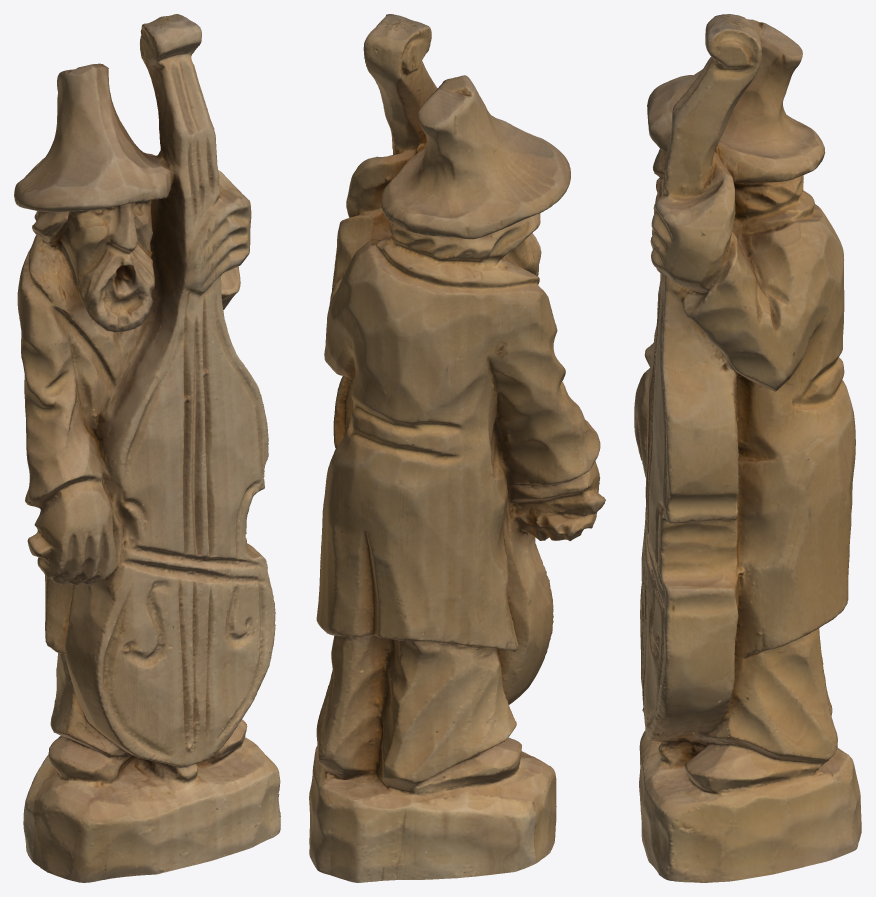
Rendered from MPL_W_E_864_lowpoly.glb.
3 views of the same model, side by side, from view 1: azimuth 30°, elevation 25°; view 2: azimuth 150°, elevation 25°; view 3: azimuth 270°, elevation 25° (orthographic).
Visible parts, largest first — view 1: MPL_W_E_864_lowpoly; view 2: MPL_W_E_864_lowpoly; view 3: MPL_W_E_864_lowpoly.
Boxes of the visible parts, x1,y1,x2,y2 form: MPL_W_E_864_lowpoly: (14, 14, 280, 882); MPL_W_E_864_lowpoly: (309, 14, 605, 882); MPL_W_E_864_lowpoly: (634, 14, 861, 882).
Size of the model in its own units: 0.0812 by 0.2455 by 0.0618.
1 material, 1 textured.
